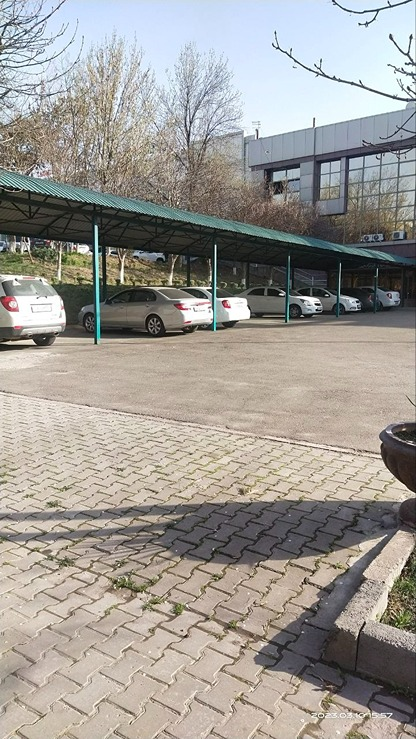car: (153, 49, 260, 180), (71, 282, 208, 345), (0, 260, 69, 358), (256, 283, 325, 315), (214, 283, 252, 325), (335, 288, 367, 319), (383, 283, 400, 320)
